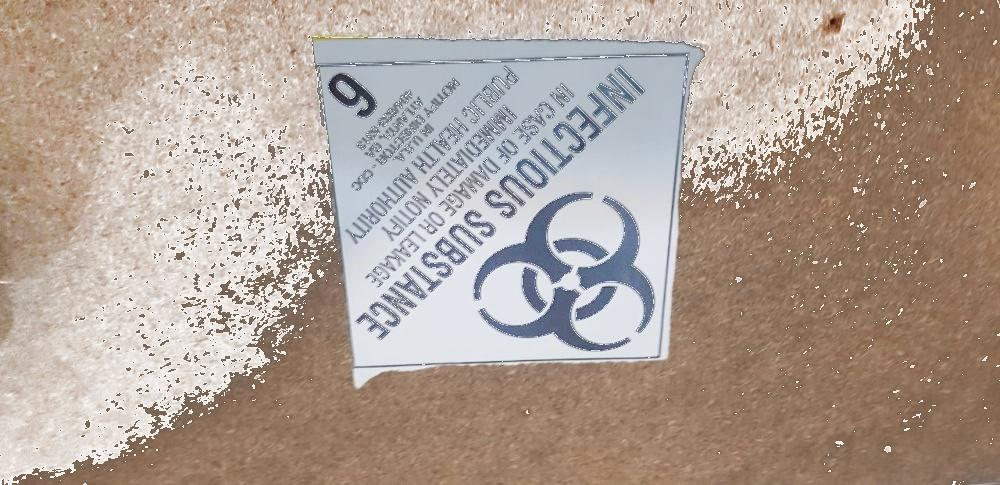infectious-substance: (310, 36, 703, 369)
